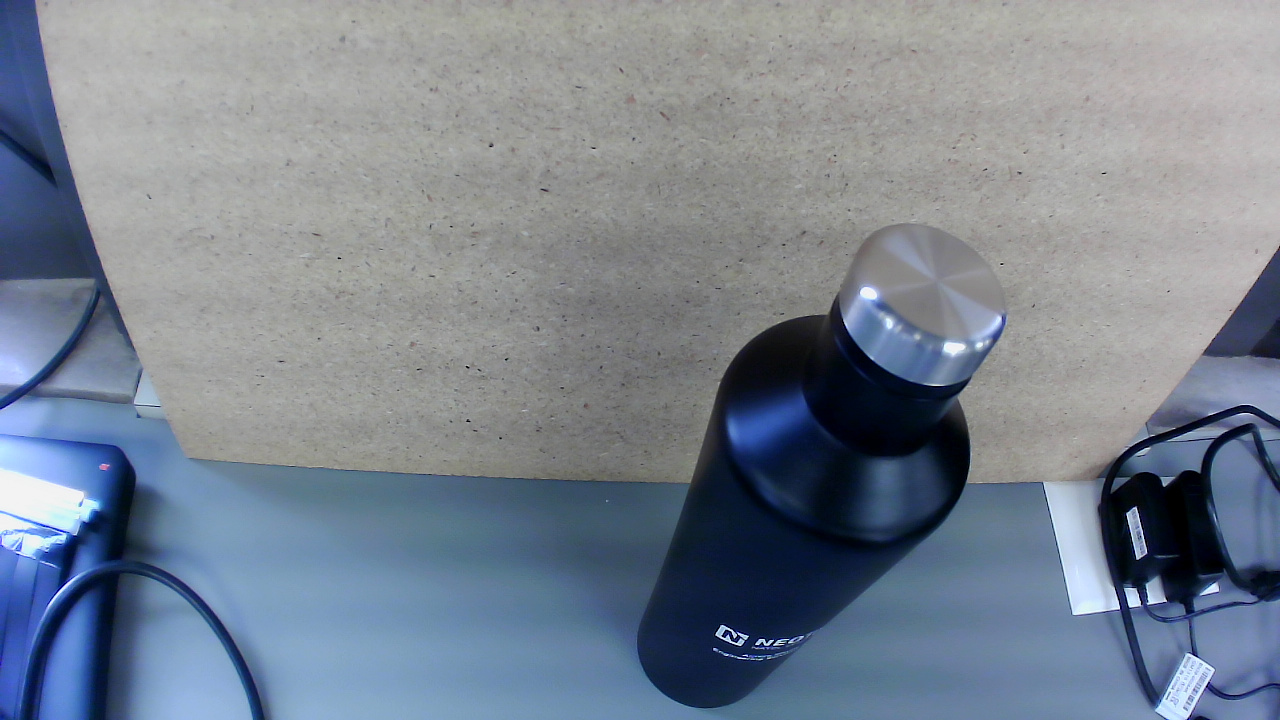neobottle: (624, 213, 1011, 720)
